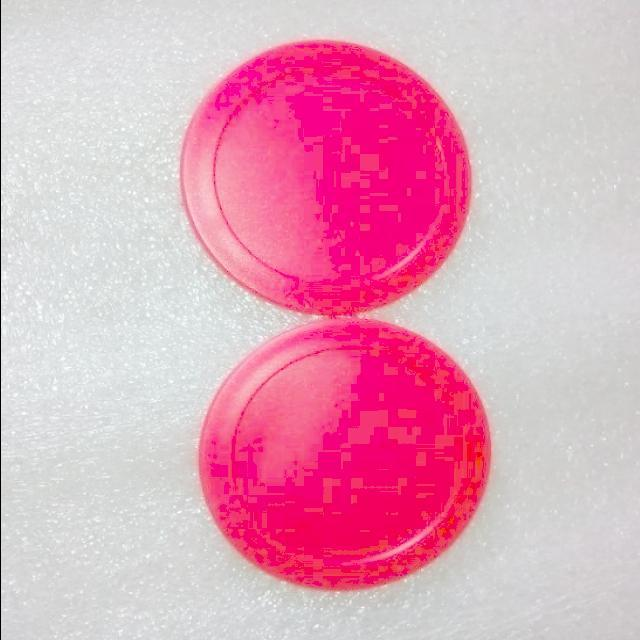chip: (183, 41, 469, 311), (203, 321, 490, 585)
